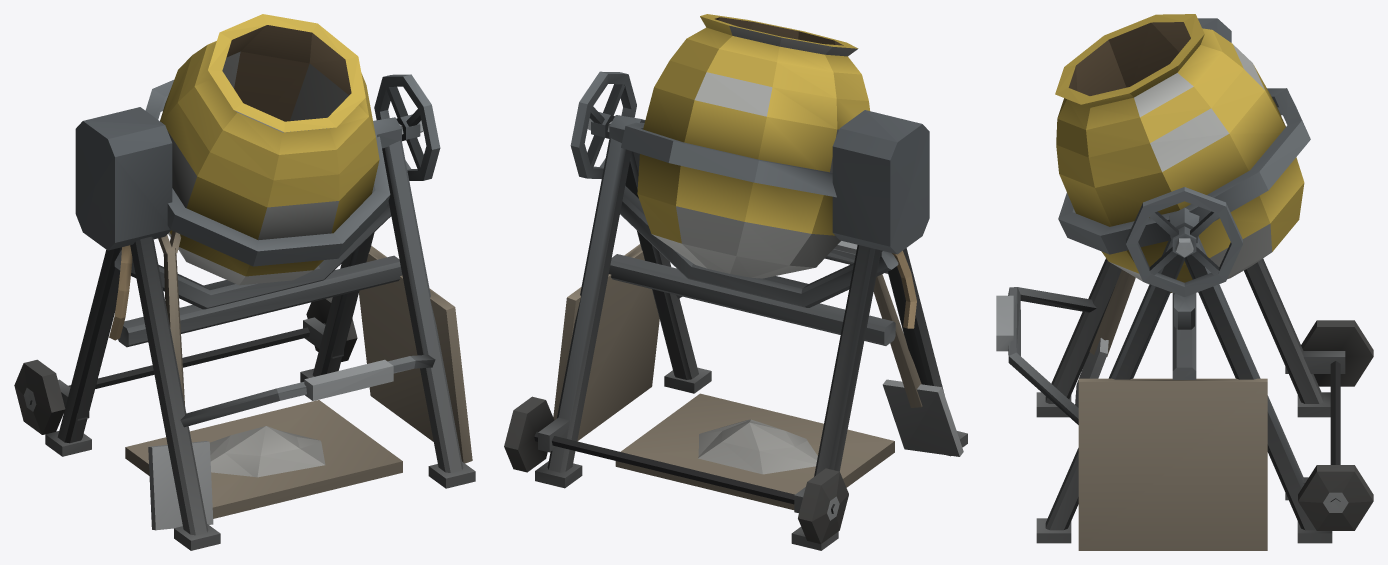
Rendered from mixer.glb.
3 renders of one model, left to right at view 1: azimuth 30°, elevation 25°; view 2: azimuth 150°, elevation 25°; view 3: azimuth 270°, elevation 25°, orthographic.
Parts seen in each view (by area): view 1: mixer; view 2: mixer; view 3: mixer.
Boxes of the visible parts, box(x1,y1,x2,y2) form: mixer: box(14, 14, 475, 550); mixer: box(504, 14, 967, 550); mixer: box(996, 14, 1373, 550).
Bounding box in the file's own units: 1 × 1.3 × 0.9976.
